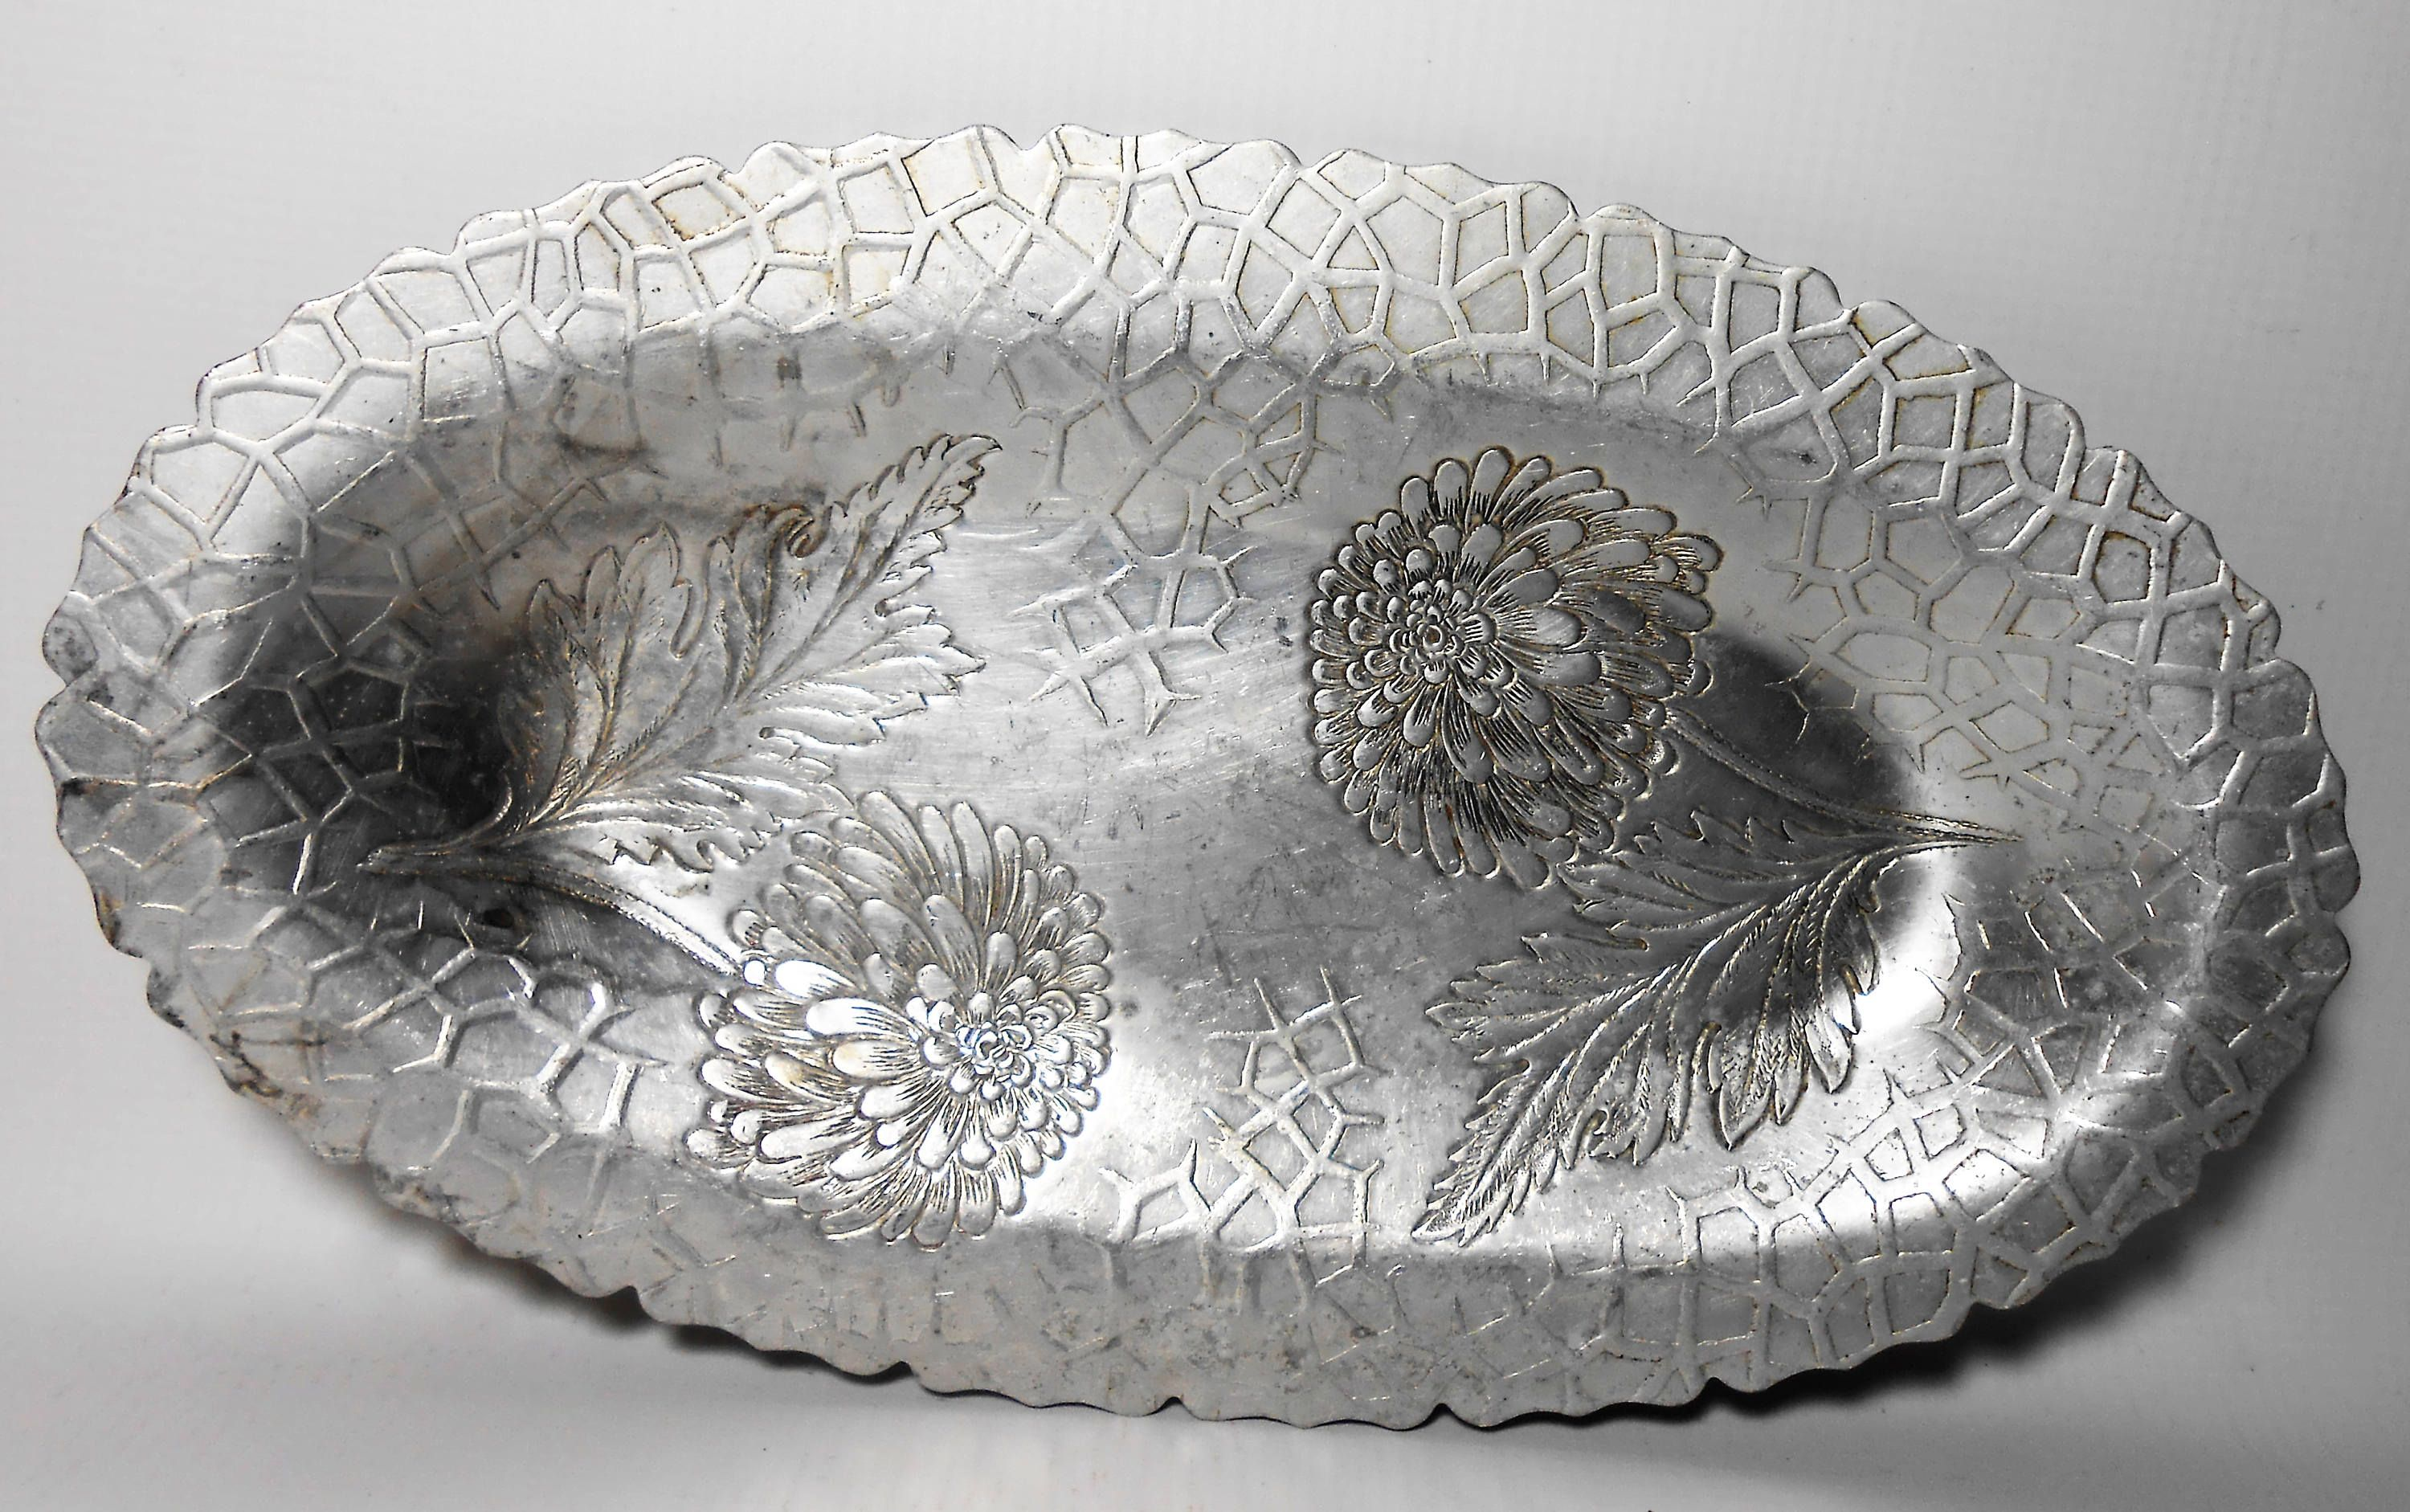metal: (33, 115, 2370, 1441)
